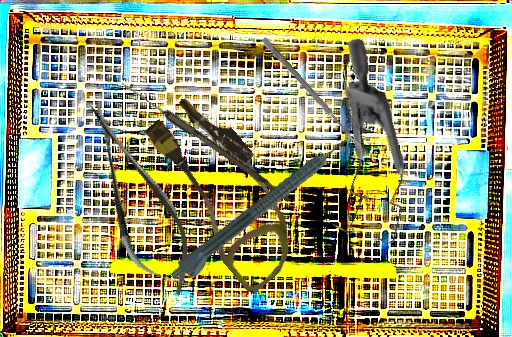Cannula: (126, 86, 323, 297)
Handpiece: (167, 134, 357, 290)
Micro Scissor: (68, 89, 209, 308)
Speculum: (251, 34, 471, 267)
Surgical Spoon: (118, 79, 294, 203), (260, 36, 364, 151)
